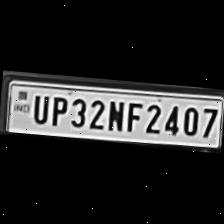0: (179, 104, 200, 136)
2: (140, 100, 162, 136), (86, 96, 106, 130)
3: (66, 95, 88, 129)
4: (160, 102, 181, 136)
7: (198, 104, 218, 138)
F: (122, 100, 142, 134)
N: (104, 97, 125, 132)
P: (48, 94, 68, 128)
U: (28, 91, 50, 124)
